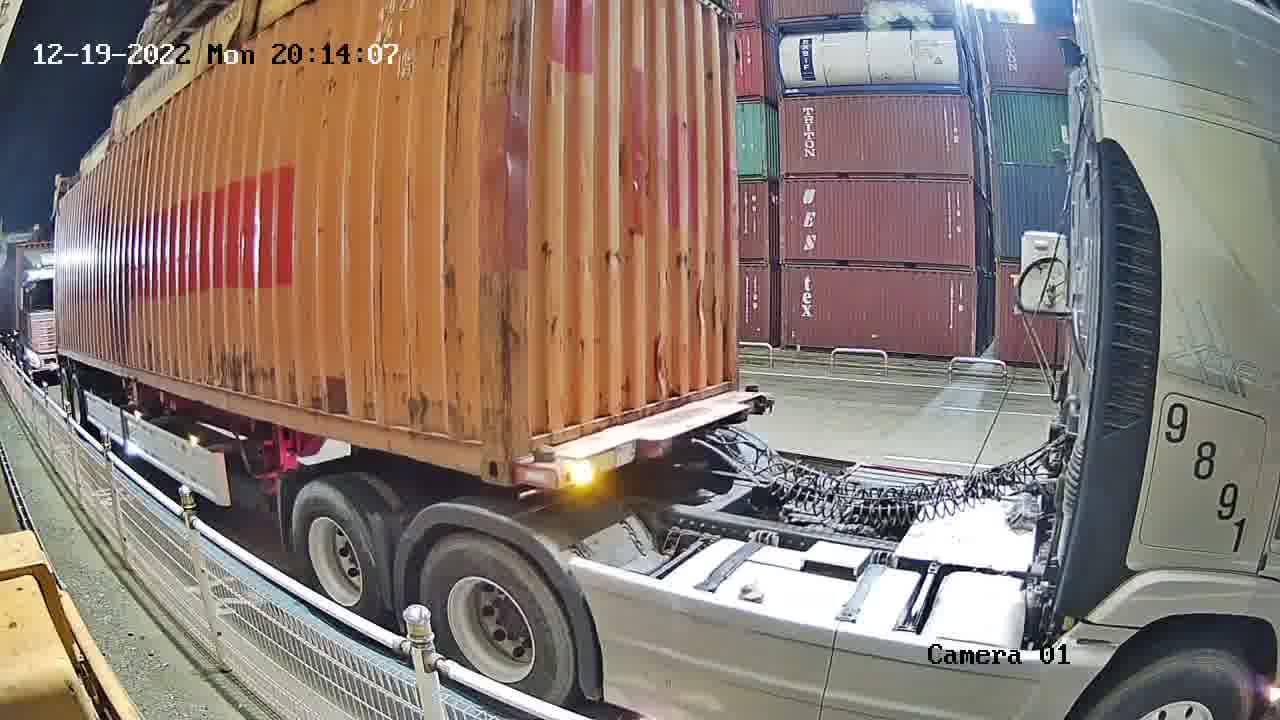Chassis: (513, 388, 768, 492)
Cone: (524, 447, 561, 489), (741, 382, 762, 395)
Hole_R: (452, 413, 512, 488)
Tire: (419, 532, 571, 704), (292, 481, 379, 615)
